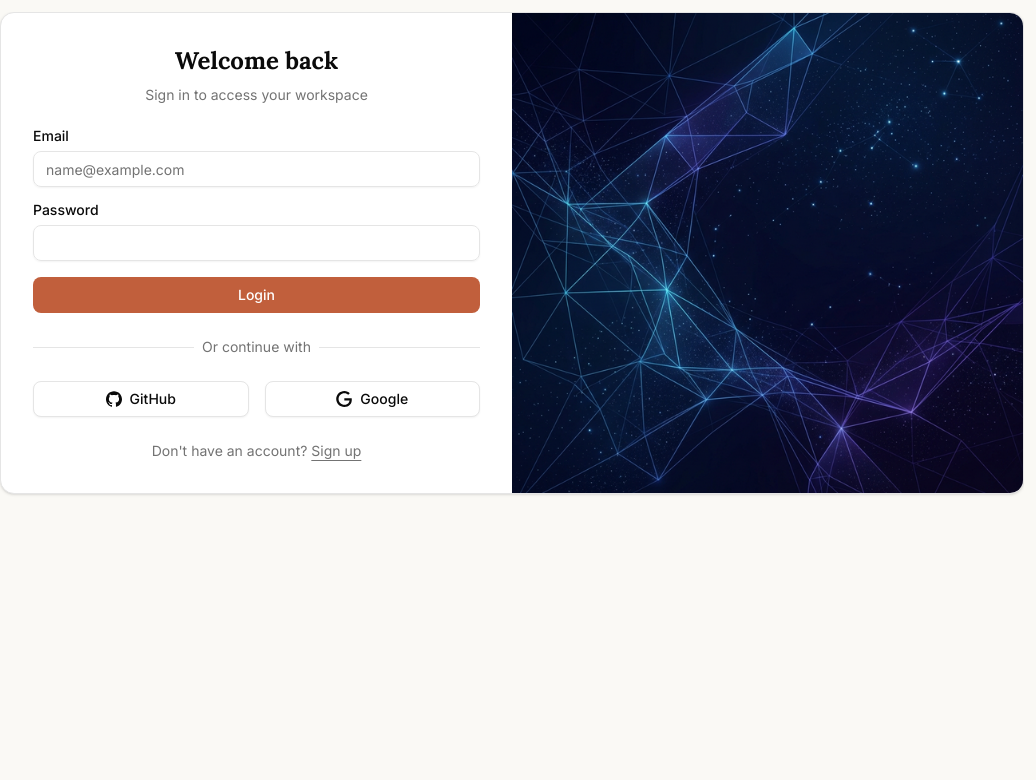
it: LoginForm › displays generic error for non-Error throws
The width and height of the screenshot is (1036, 780).
In the field labelled "Email": (256, 169) [33,151,480,187], type "test@example.com"
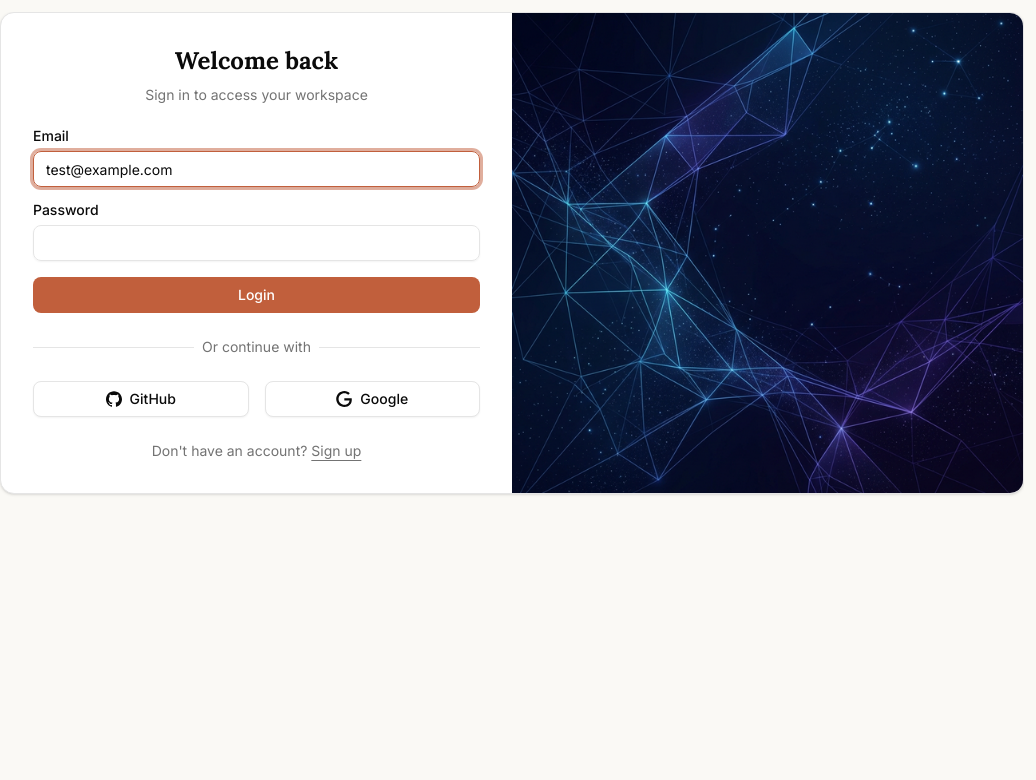
In the password field labelled "Password": (256, 243) [33,225,480,261], type "wrongpassword"
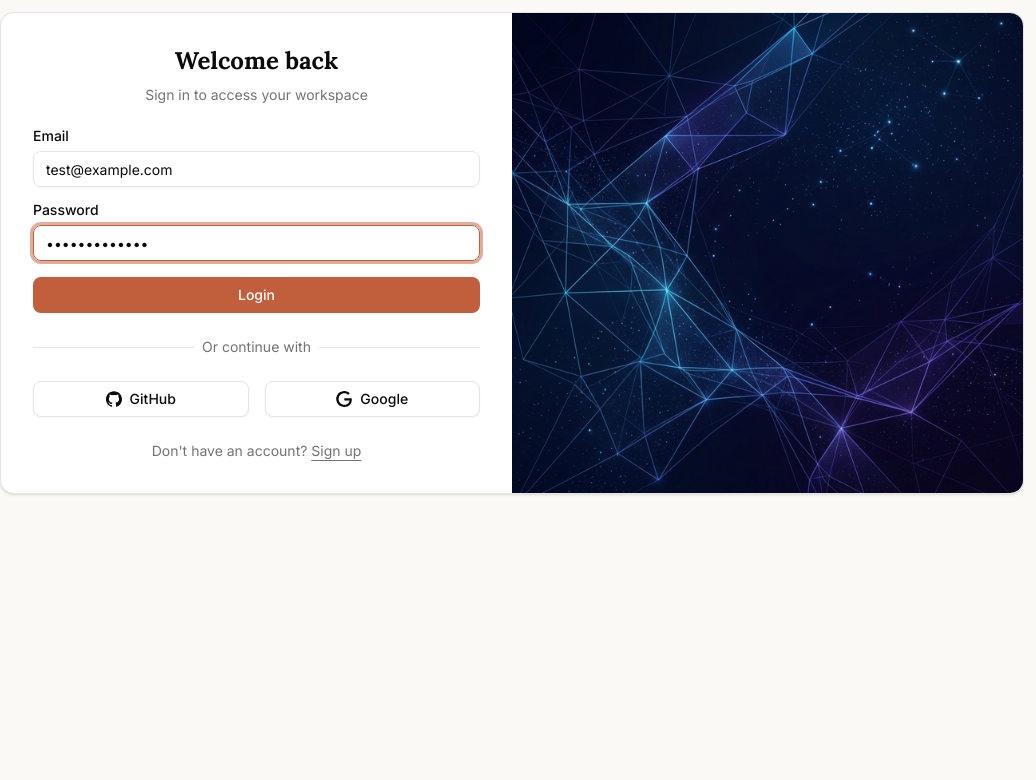
Click the button "Login": click(256, 295) [33,277,480,313]
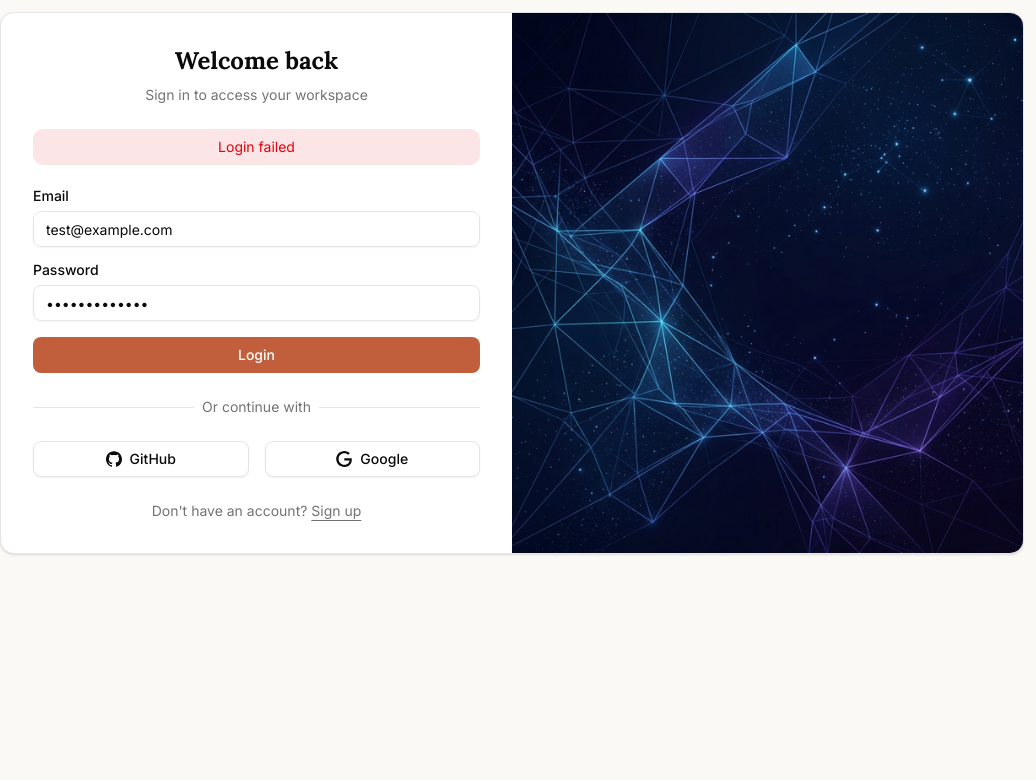
Expected: the text "Login failed" is shown, [33,129,480,165]
